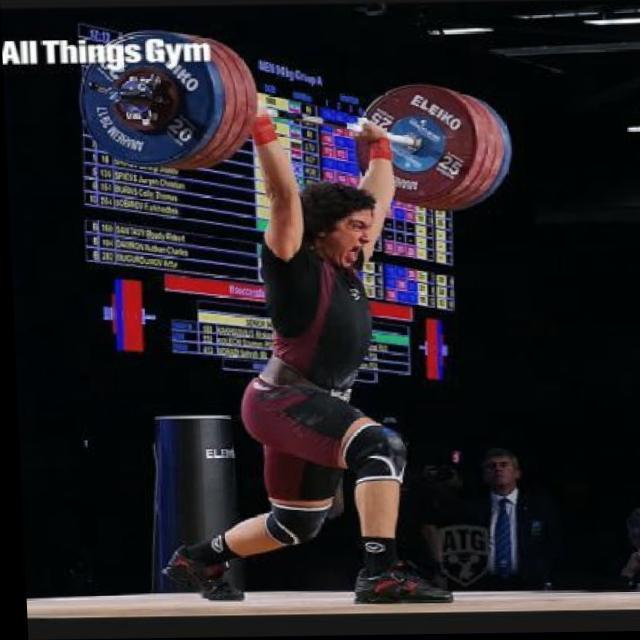barbell: (75, 26, 222, 169)
